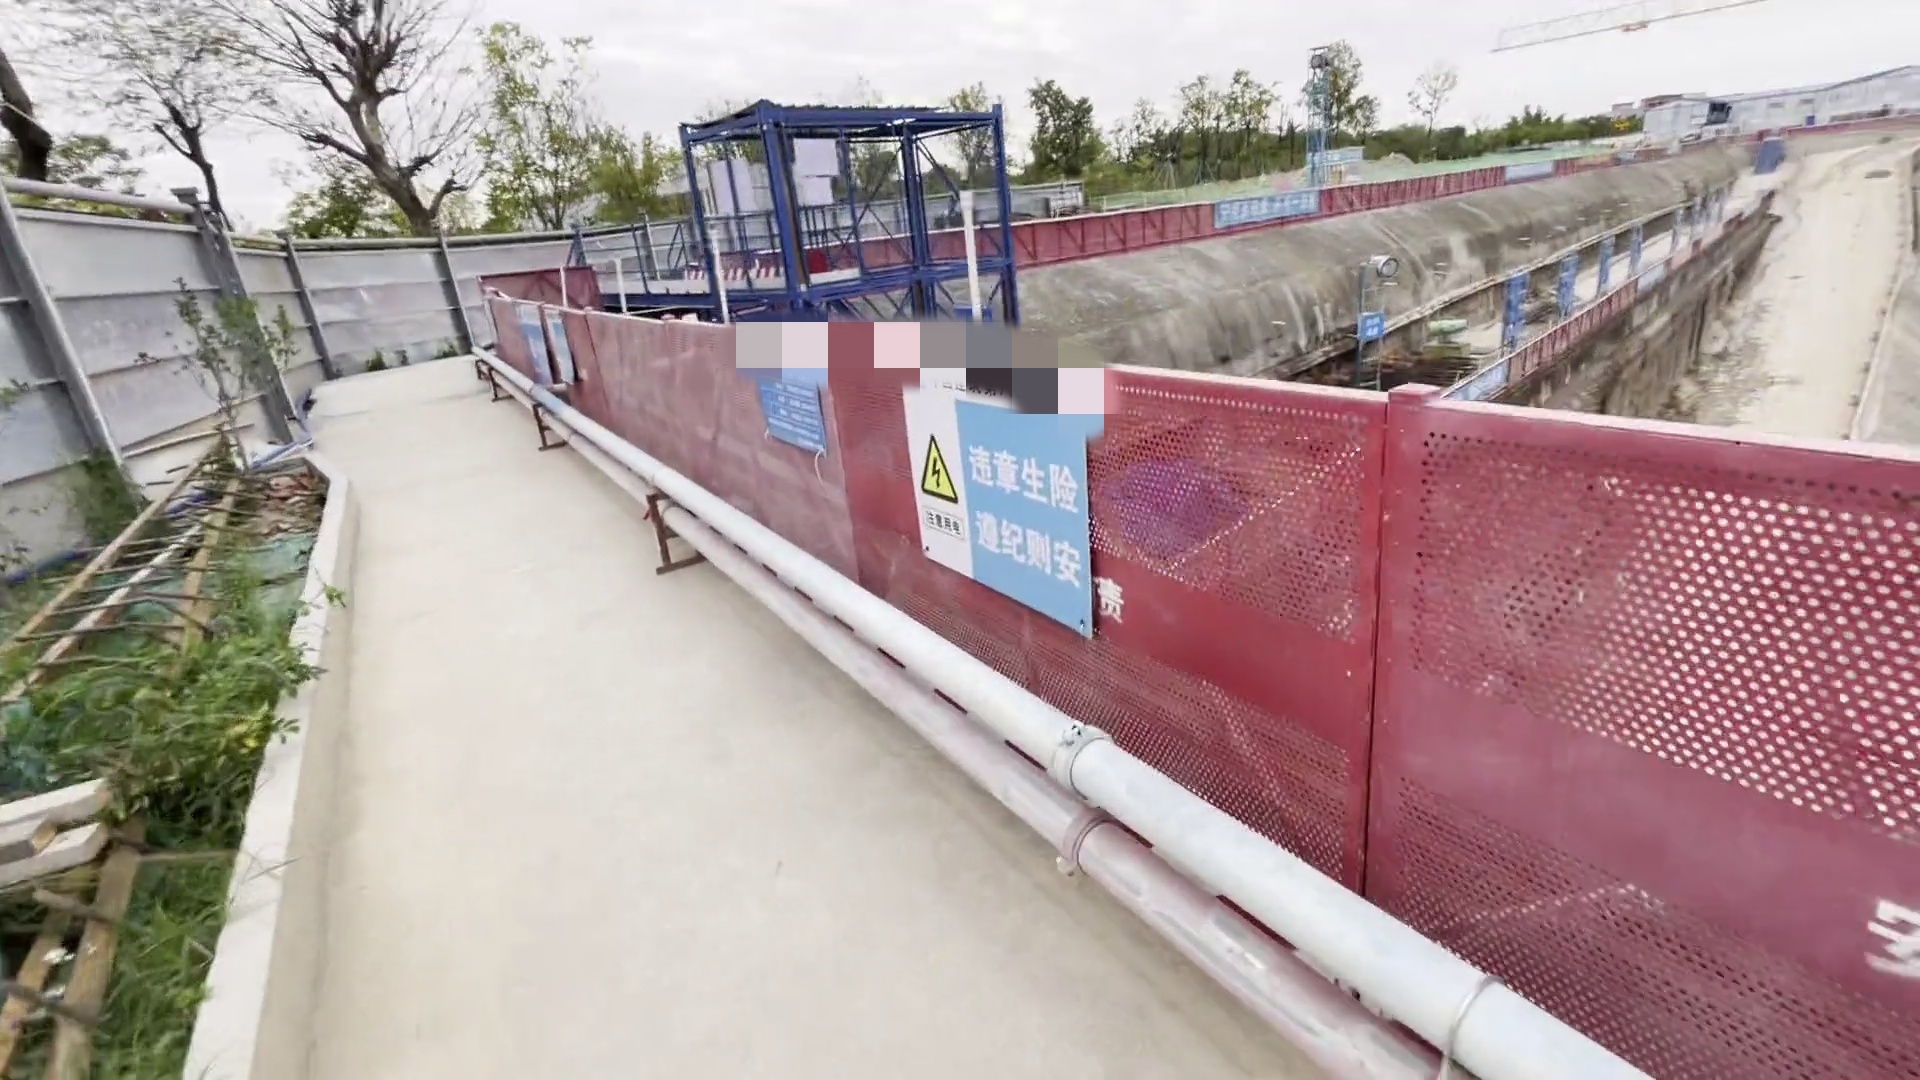fence: (493, 299, 1876, 1062), (861, 161, 1706, 277)
slogan: (887, 357, 1110, 651), (497, 301, 582, 407), (1209, 185, 1327, 229), (1308, 140, 1369, 165)
